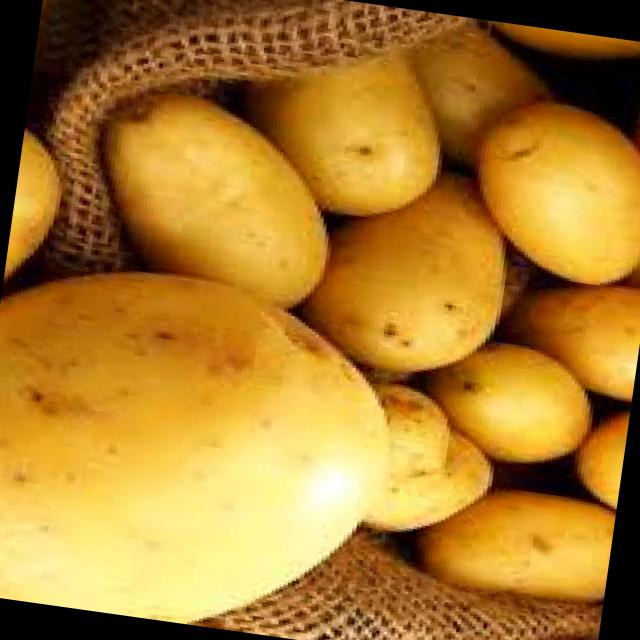Potato: (0, 253, 394, 640), (71, 84, 378, 374), (295, 156, 518, 388), (237, 21, 457, 240), (458, 71, 640, 311), (406, 472, 618, 629), (346, 370, 512, 562), (0, 100, 106, 361), (440, 328, 602, 483), (521, 276, 640, 392), (554, 381, 634, 527), (332, 627, 546, 640), (491, 619, 599, 640)
